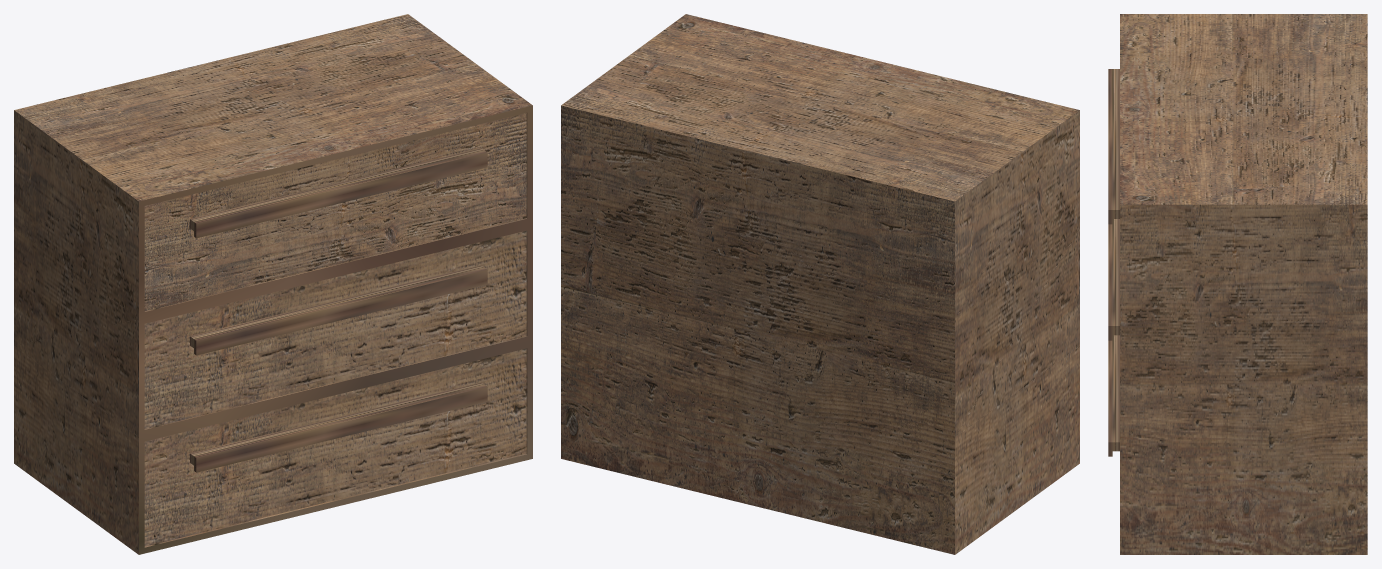
Rendered from drawer_textured.FBX.
3 views of the same model, side by side, from view 1: azimuth 30°, elevation 25°; view 2: azimuth 150°, elevation 25°; view 3: azimuth 270°, elevation 25° (orthographic).
Parts seen in each view (by area): view 1: Box001; view 2: Box001; view 3: Box001.
Boxes of the visible parts, x1,y1,x2,y2 form: Box001: (14, 14, 532, 554); Box001: (561, 14, 1079, 554); Box001: (1108, 14, 1367, 554).
Size of the model in its own units: 1.19 by 1.02 by 0.6833.
Materials: 1 (1 with a texture image).
